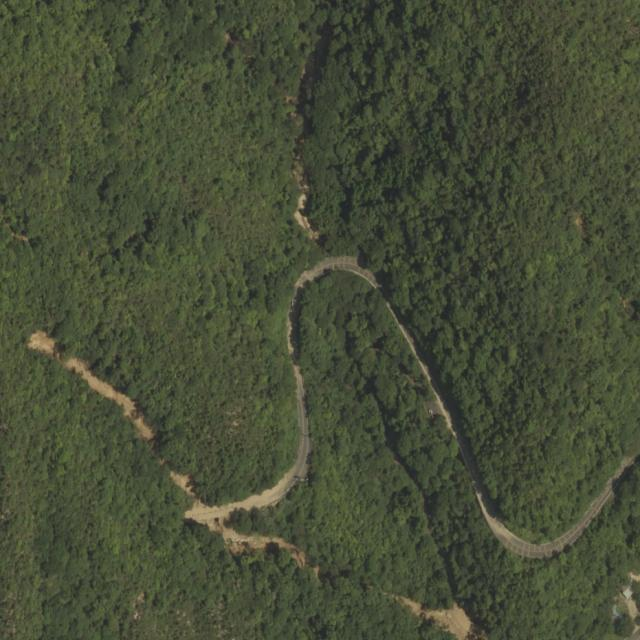landslide: (27, 331, 153, 442), (186, 511, 309, 568), (393, 598, 478, 640), (170, 472, 194, 496)
